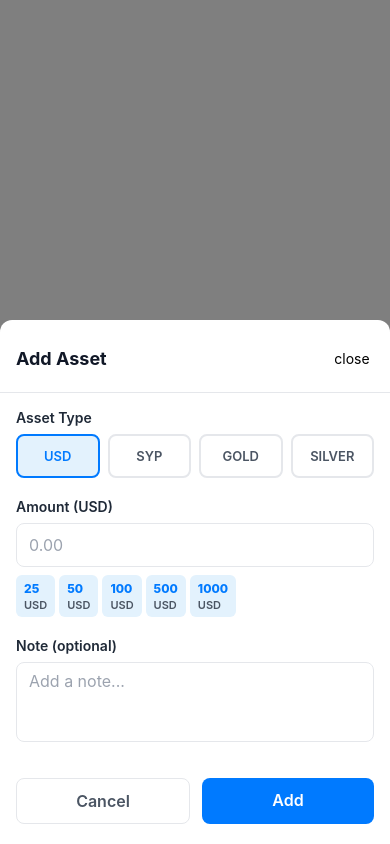
it: AssetFormModal › Add Mode › should handle pressing asset type buttons
Click the button with aria-label "Select GOLD". click: (241, 456)
box: [199, 434, 282, 478]
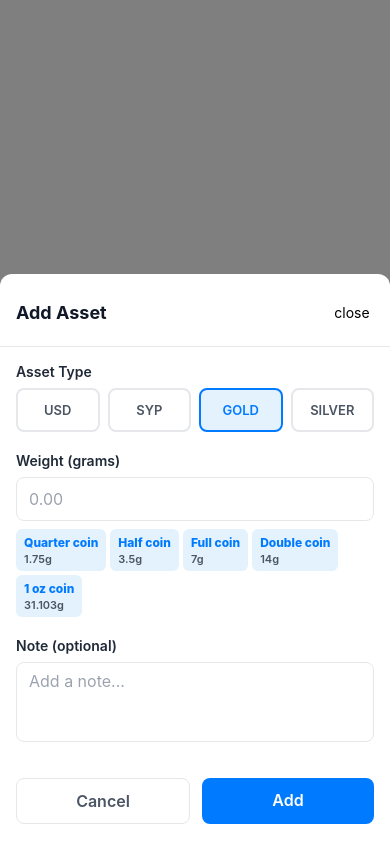
Expected: the field named "Weight (grams)" is shown, [16, 477, 374, 521]
